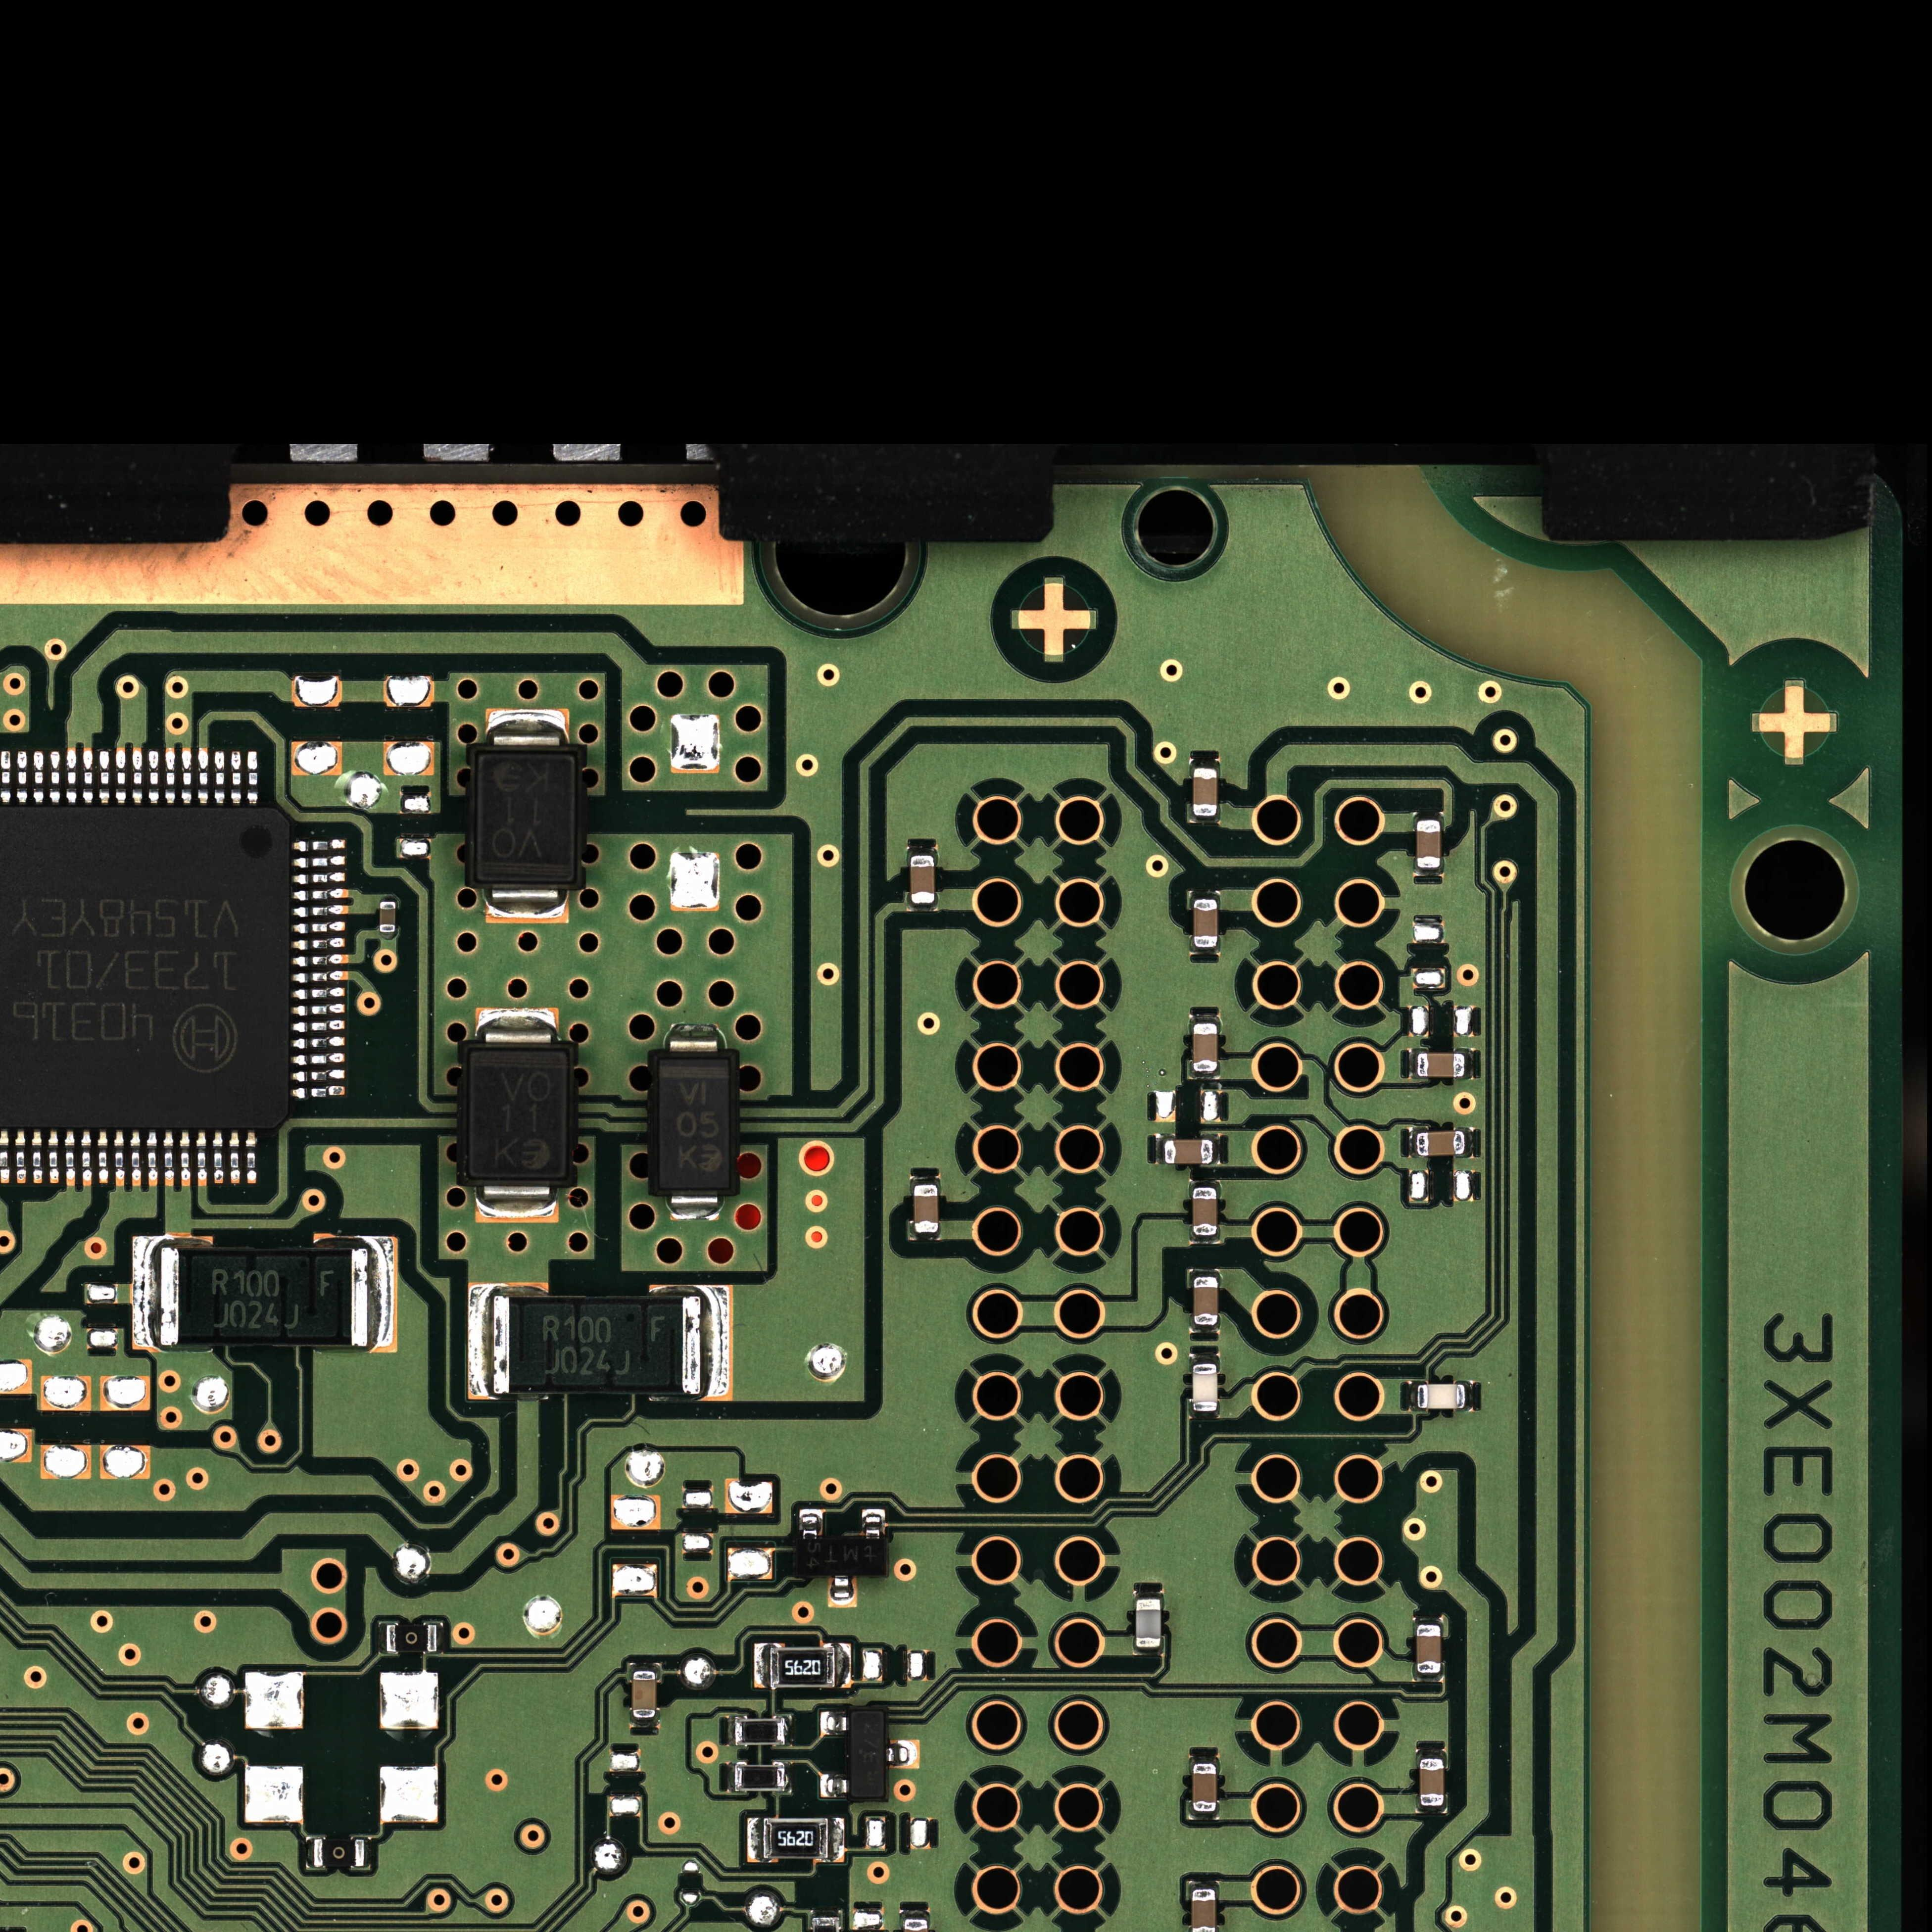Component: (161, 1247, 368, 1345), (494, 1297, 701, 1394), (478, 754, 575, 883), (469, 1051, 566, 1178), (658, 1060, 729, 1189), (368, 1237, 398, 1353), (701, 1284, 731, 1399), (476, 1007, 557, 1049), (794, 1539, 886, 1576), (478, 1180, 557, 1223), (485, 885, 568, 924), (487, 709, 568, 747), (133, 1237, 159, 1350), (851, 1711, 885, 1798), (469, 1283, 494, 1399), (770, 1647, 835, 1688), (763, 1819, 828, 1859), (667, 1023, 722, 1056), (669, 1189, 720, 1221), (313, 1838, 364, 1867), (386, 1624, 437, 1652), (734, 1718, 784, 1744), (734, 1766, 784, 1790), (1417, 1624, 1442, 1674), (913, 1185, 938, 1233), (1192, 768, 1217, 816), (1164, 1139, 1212, 1164), (1419, 1759, 1444, 1806), (1417, 1384, 1465, 1408), (1192, 1024, 1217, 1072), (1192, 1764, 1217, 1812), (1192, 1364, 1217, 1412), (1417, 1053, 1465, 1077), (1136, 1599, 1161, 1647), (1417, 1131, 1465, 1155), (1192, 1187, 1217, 1235), (632, 1672, 656, 1718), (911, 856, 934, 904), (1417, 821, 1440, 869), (1194, 899, 1217, 947), (1194, 1277, 1217, 1325), (885, 1739, 918, 1767), (828, 1576, 856, 1606), (821, 1711, 851, 1736), (828, 1817, 844, 1863), (747, 1817, 763, 1863), (835, 1644, 851, 1688), (754, 1644, 770, 1688), (821, 1775, 851, 1798), (800, 1509, 823, 1539), (862, 1509, 885, 1539), (1414, 810, 1444, 821), (1212, 1134, 1223, 1164), (1417, 1748, 1447, 1759), (1191, 1353, 1219, 1364), (1189, 947, 1221, 955), (1189, 890, 1221, 899), (1189, 816, 1221, 824), (1189, 1325, 1221, 1334), (1189, 1014, 1221, 1023), (1189, 1269, 1221, 1277), (1189, 1235, 1221, 1244), (1132, 1647, 1164, 1656), (1187, 1812, 1219, 1821), (1415, 1806, 1447, 1815), (908, 846, 938, 855), (909, 1175, 939, 1184), (630, 1718, 660, 1727), (630, 1663, 660, 1672), (727, 1716, 736, 1746), (784, 1762, 793, 1792), (1414, 869, 1444, 878), (1189, 759, 1219, 768), (1408, 1049, 1417, 1079), (1408, 1382, 1417, 1412), (1155, 1134, 1164, 1164), (1191, 1178, 1221, 1187), (1408, 1127, 1417, 1157), (1189, 1755, 1219, 1764), (1134, 1591, 1164, 1599), (1414, 1674, 1444, 1683), (1414, 1617, 1444, 1626), (1465, 1049, 1474, 1079), (784, 1716, 793, 1744), (379, 1622, 386, 1654), (306, 1836, 313, 1868), (437, 1622, 444, 1652), (908, 904, 938, 911), (909, 1233, 939, 1240), (727, 1762, 734, 1792), (1189, 1072, 1219, 1079), (1189, 1412, 1219, 1419), (1465, 1382, 1472, 1412), (1465, 1127, 1472, 1157), (364, 1838, 372, 1867)
